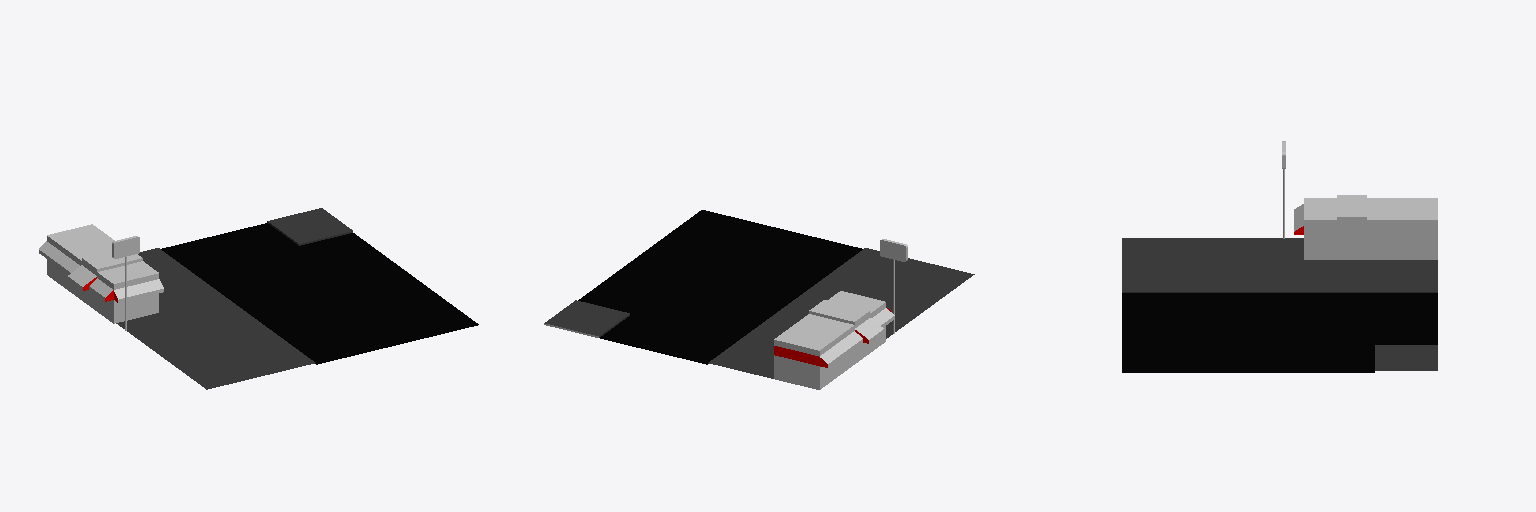
File: 03_kfc.obj
The picture shows the model from 3 angles: view 1: azimuth 30°, elevation 25°; view 2: azimuth 150°, elevation 25°; view 3: azimuth 270°, elevation 25°; orthographic projection.
Parts seen in each view (by area): view 1: 03_kfc_Grid.001; view 2: 03_kfc_Grid.001; view 3: 03_kfc_Grid.001.
Part boxes in pixels (bbox=[...]): 03_kfc_Grid.001: bbox=[39, 208, 478, 389]; 03_kfc_Grid.001: bbox=[544, 210, 974, 389]; 03_kfc_Grid.001: bbox=[1122, 141, 1437, 372].
Size of the model in its own units: 16.96 by 5.22 by 16.